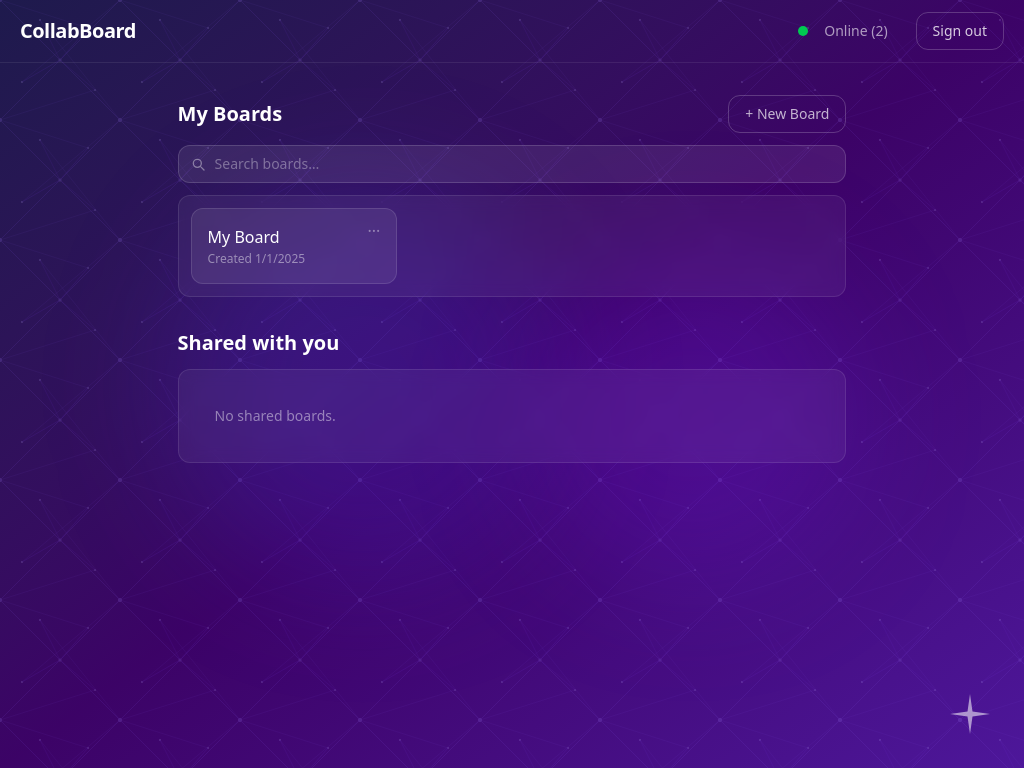
Test case: BoardsListPage › Rename opens modal when exactly one board selected
Click the button named "open actions for my board": (374, 231) [360,217,388,245]
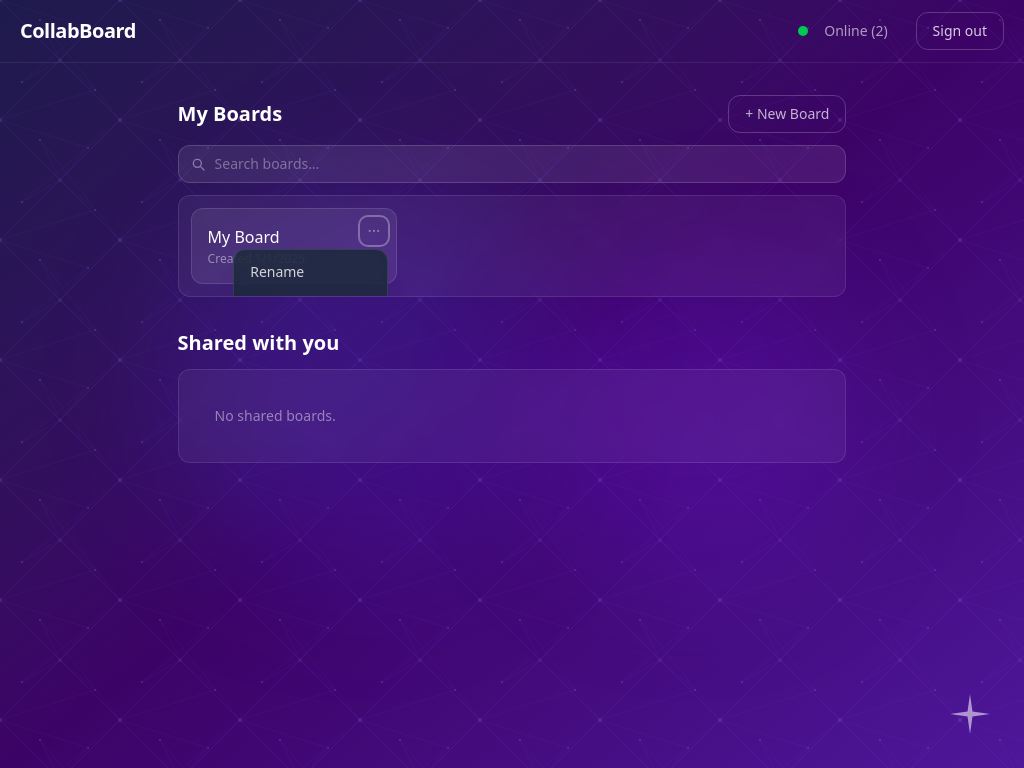
Click the button "Rename": (311, 272) [238,254,383,290]
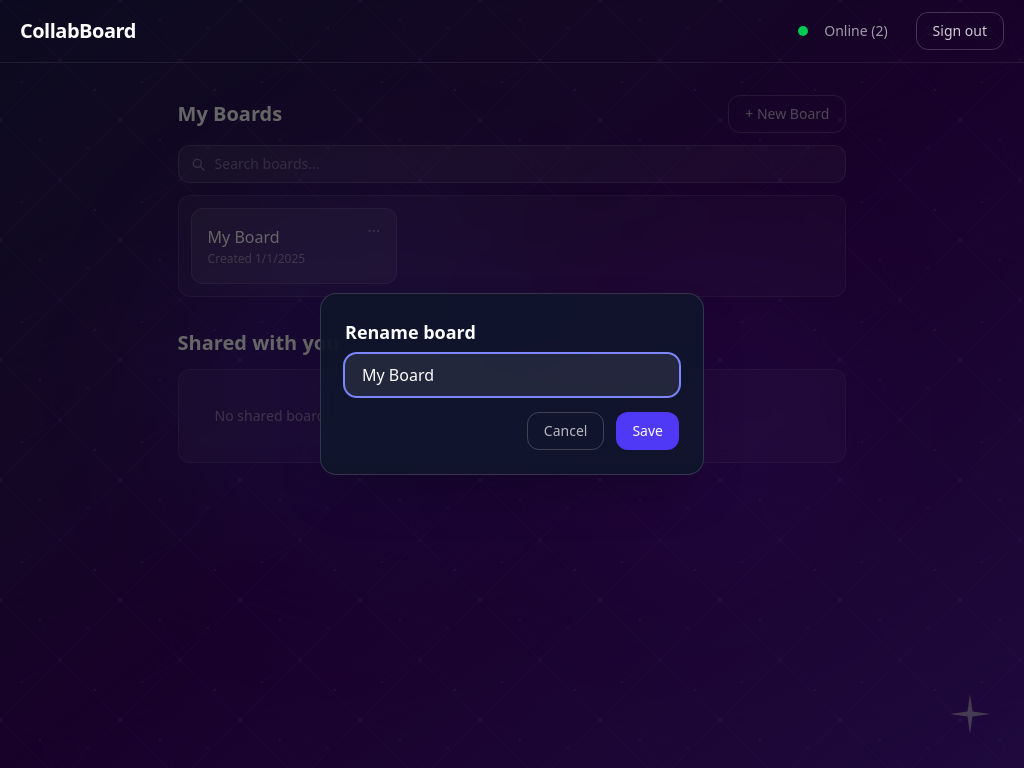
Expected: the dialog is shown
Expected: the field named "Board name" holds "My Board", [345,354,679,396]
